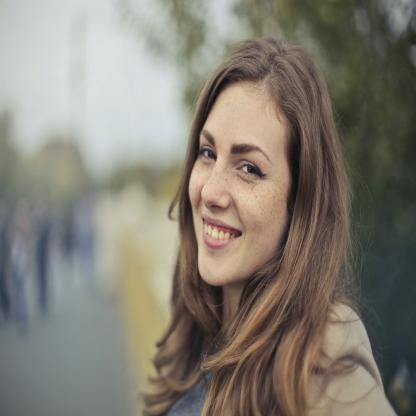Eye: (232, 152, 268, 184), (196, 141, 219, 169)
Mouth: (197, 209, 243, 252)
Nose: (202, 158, 232, 213)
